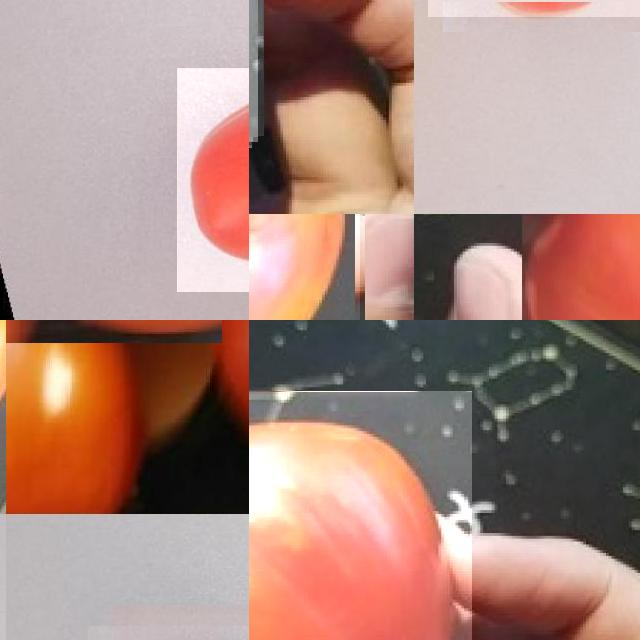0: (177, 67, 249, 292)
Fresh Tomato: (6, 320, 152, 514), (215, 320, 249, 514)
Rotten Tomato: (249, 391, 472, 640), (522, 214, 640, 320), (249, 214, 360, 320)
